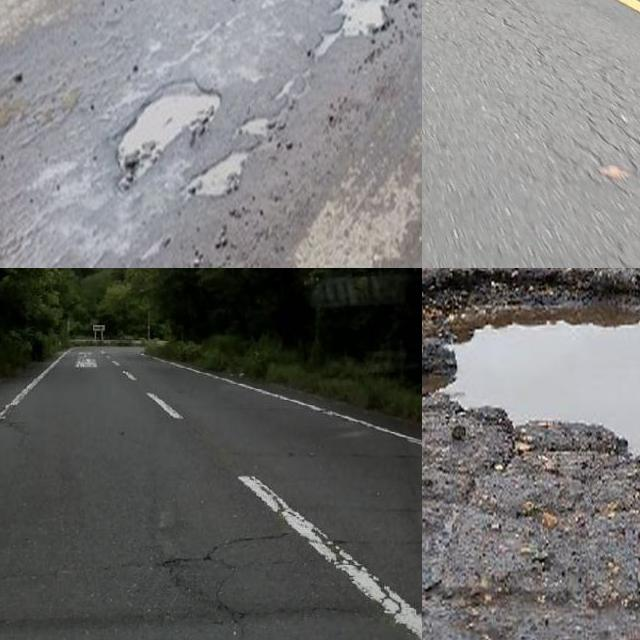Lubang: (422, 268, 640, 448), (102, 82, 220, 183)
Melintang: (0, 527, 422, 596)
Retak Buaya: (422, 0, 640, 217)
